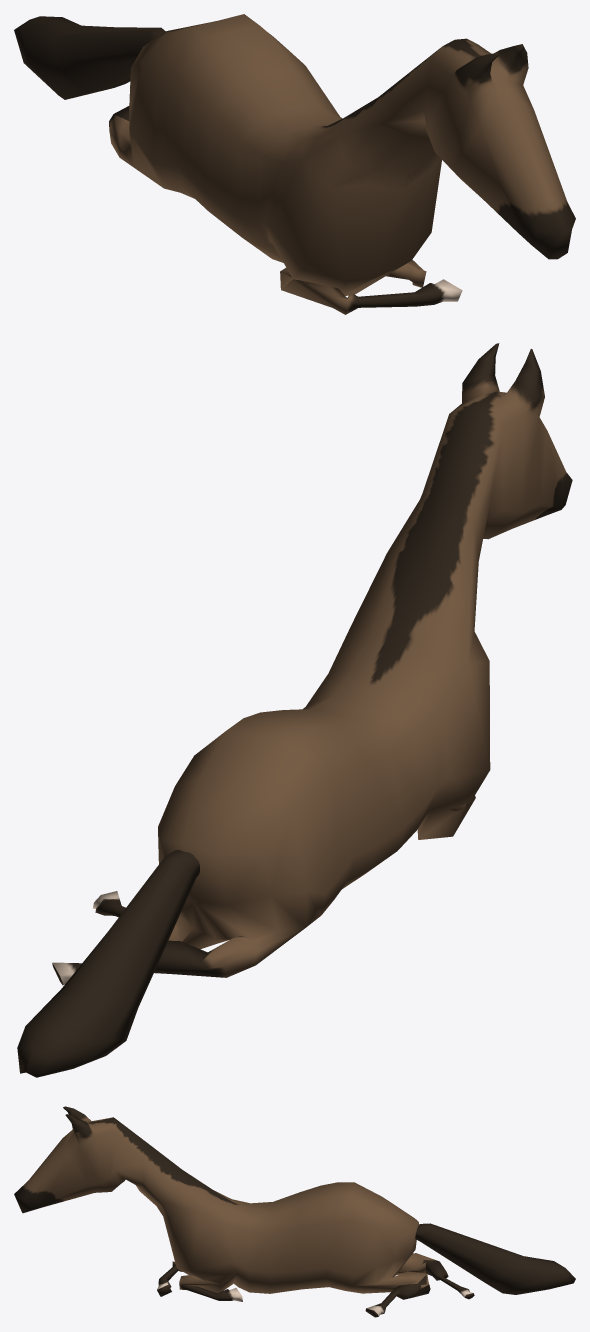
Rendered from mdl_foal.fbx.
3 views of the same model, one above another, from view 1: azimuth 30°, elevation 25°; view 2: azimuth 150°, elevation 25°; view 3: azimuth 270°, elevation 25° (orthographic). The views are drawn at different scales.
Parts seen in each view (by area): view 1: Foal; view 2: Foal; view 3: Foal.
Part boxes in pixels (left/top/right/bottom): Foal: left=14, top=14, right=575, bottom=314; Foal: left=17, top=343, right=572, bottom=1077; Foal: left=14, top=1106, right=575, bottom=1317.
Bounding box in the file's own units: 0.6575 × 1.1 × 3.01.
